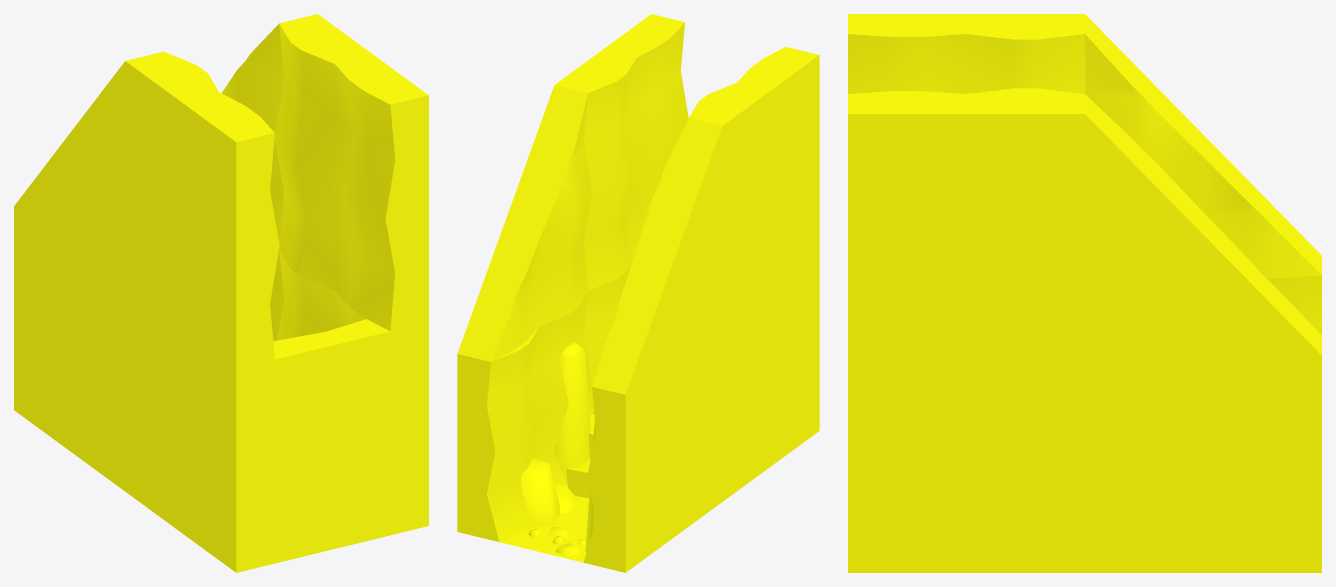
Rendered from 建筑构件_楼梯_石阶.glb.
3 renders of one model, left to right at view 1: azimuth 30°, elevation 25°; view 2: azimuth 150°, elevation 25°; view 3: azimuth 270°, elevation 25°, orthographic. The views are drawn at different scales.
Visible parts, largest first — view 1: stairs; view 2: stairs; view 3: stairs.
Part boxes in pixels (bbox=[...]): stairs: bbox=[14, 14, 428, 572]; stairs: bbox=[457, 14, 819, 572]; stairs: bbox=[848, 14, 1321, 572].
Size of the model in its own units: 4 by 8.55 by 8.
Materials: 1 (1 with a texture image).
